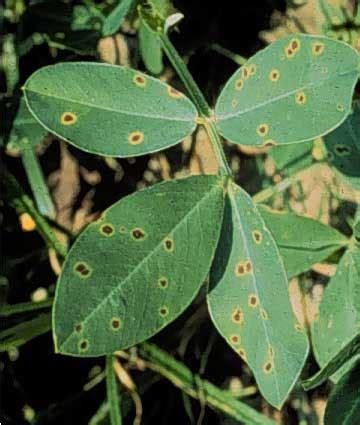black-spot: (227, 253, 268, 313), (269, 44, 305, 86)
